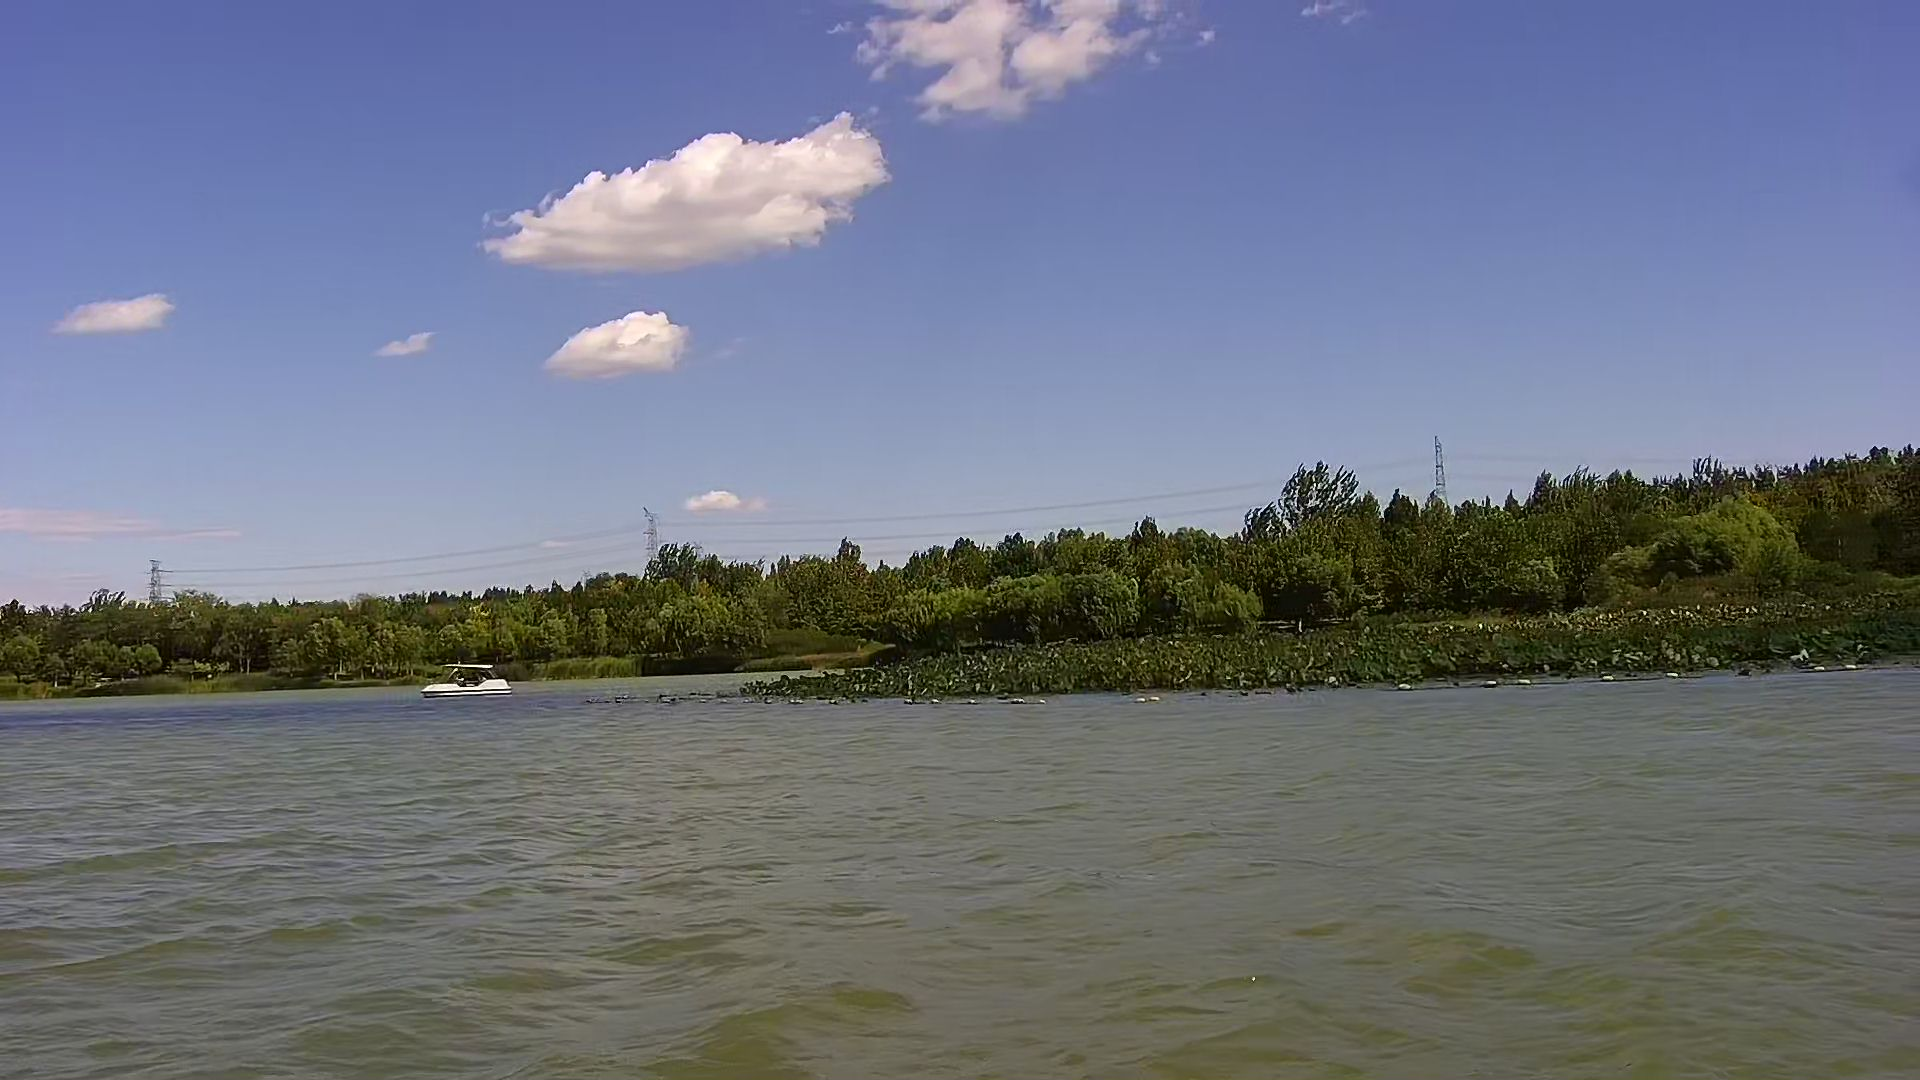boat: (419, 661, 520, 703)
